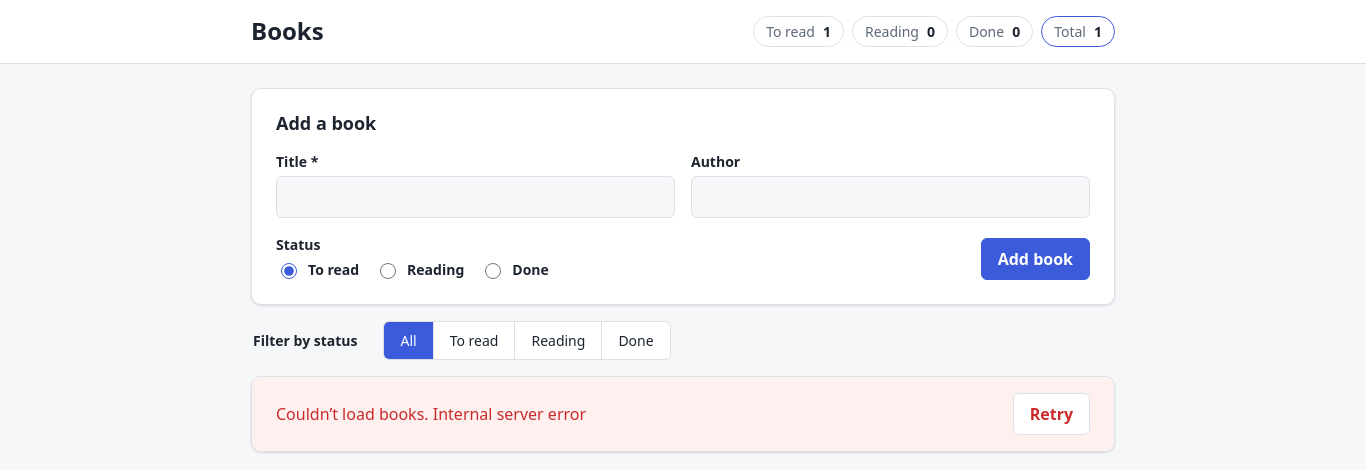
Test: BookList › server 500 → inline error, Retry recovers
The image size is (1366, 470).
Expected: the text "Couldn’t load books. Internal server error" is shown, [276,402,586,426]
Click the button "Retry": click(1051, 414) [1013,393,1090,435]
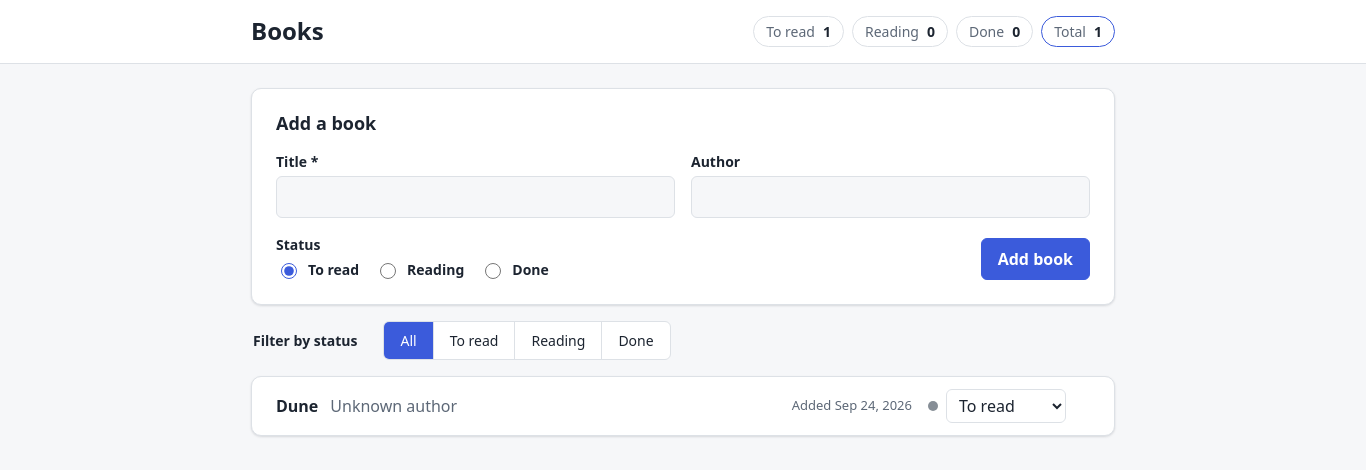
Result: the button "Retry" is gone
